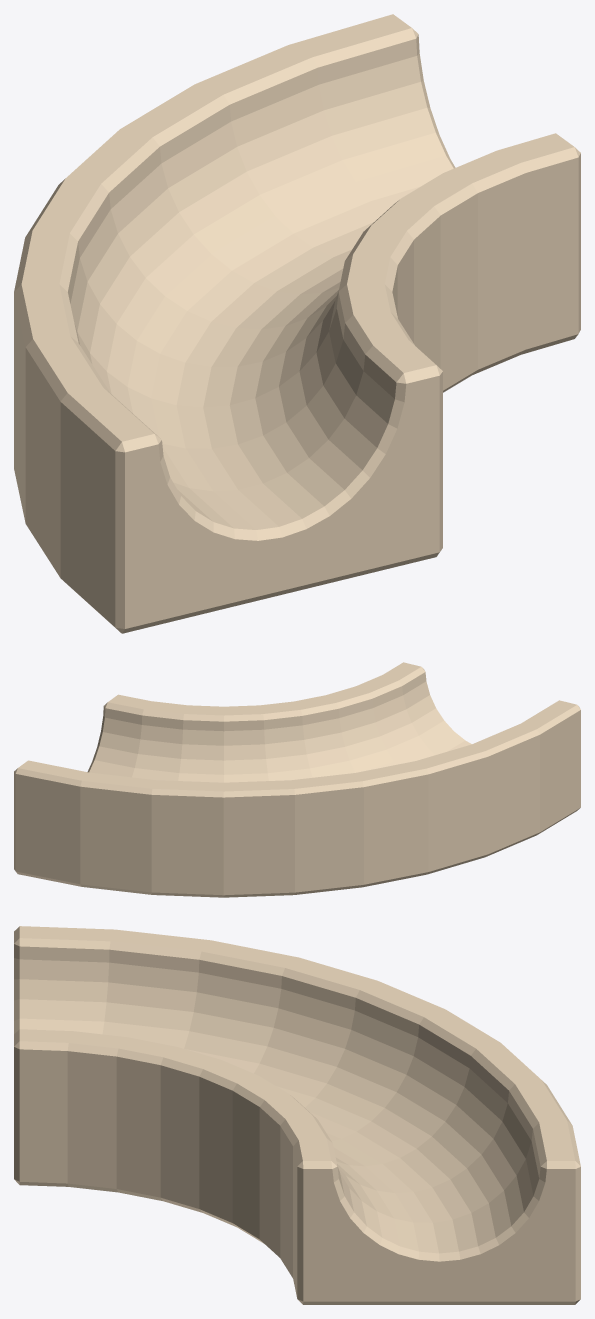
Rendered from track_corner_a02.glb.
3 views of the same model, one above another, from view 1: azimuth 30°, elevation 25°; view 2: azimuth 150°, elevation 25°; view 3: azimuth 270°, elevation 25° (orthographic). The views are drawn at different scales.
Visible parts, largest first — view 1: Corner; view 2: Corner; view 3: Corner.
Boxes of the visible parts, left/top/right/bottom form: Corner: left=14, top=14, right=580, bottom=633; Corner: left=14, top=662, right=580, bottom=897; Corner: left=14, top=926, right=580, bottom=1304.
Bounding box in the file's own units: 4 × 1.12 × 4.
